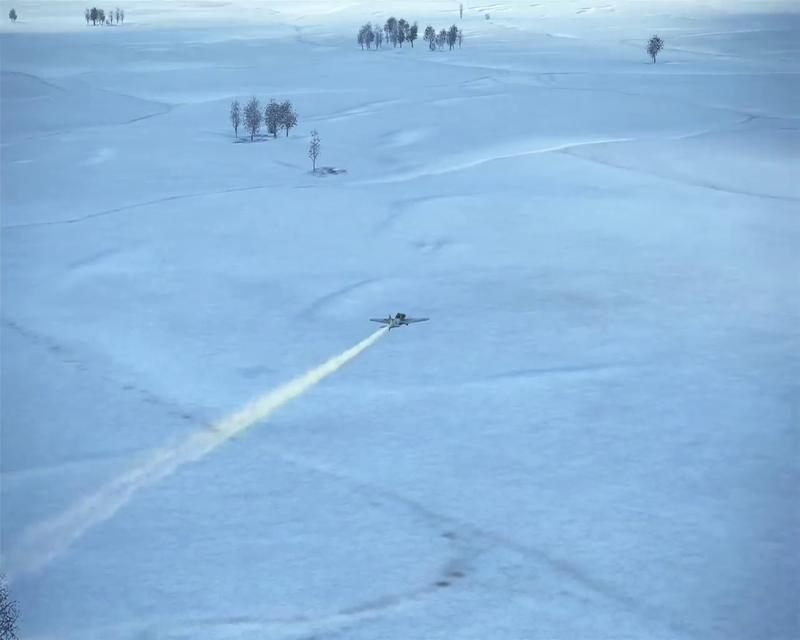UAV: (368, 313, 430, 332)
